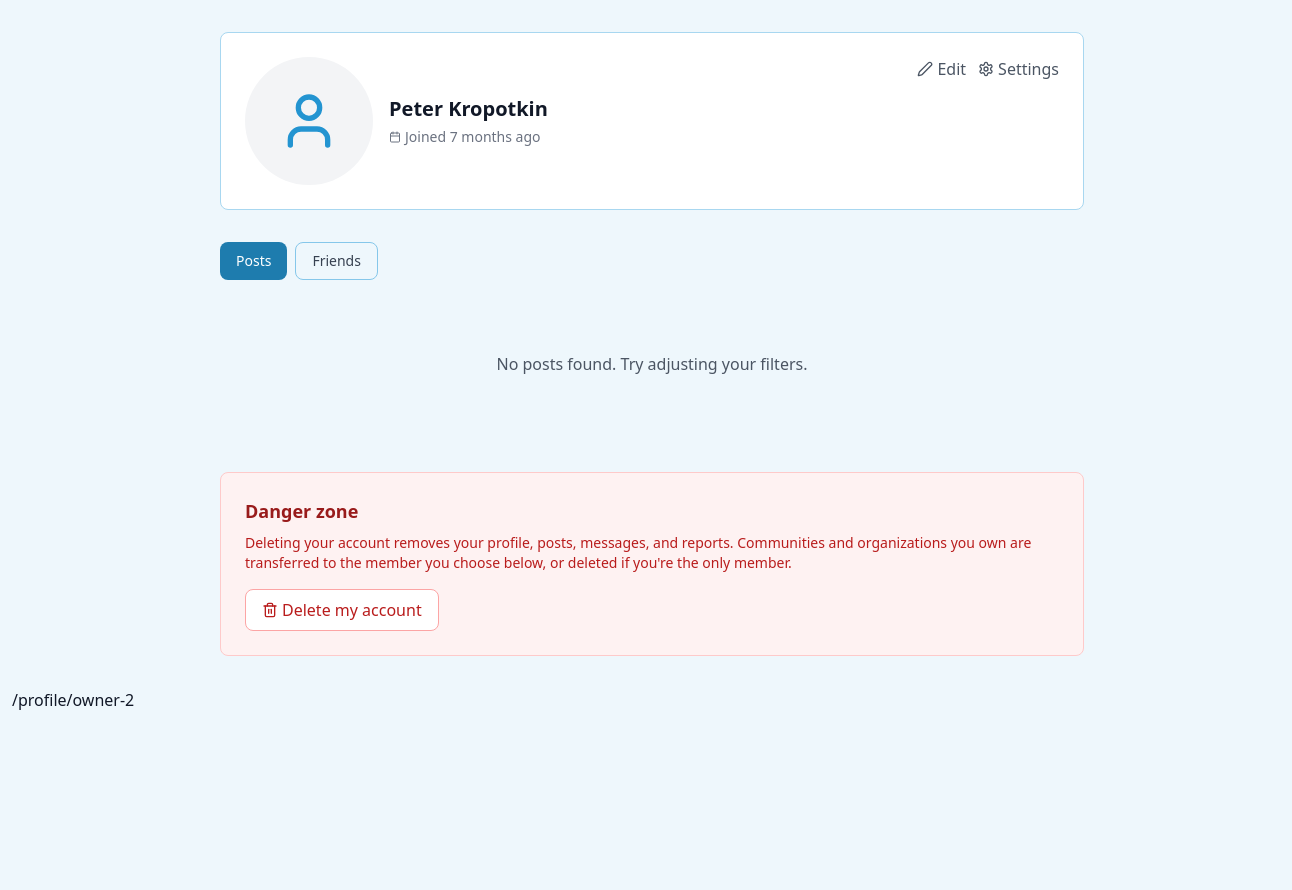
Test: ProfilePage delete account › shows an heir-picker per owned community/org when entering the confirm step
The width and height of the screenshot is (1292, 890).
Click the button "Delete my account": (342, 610) [245,589,439,631]
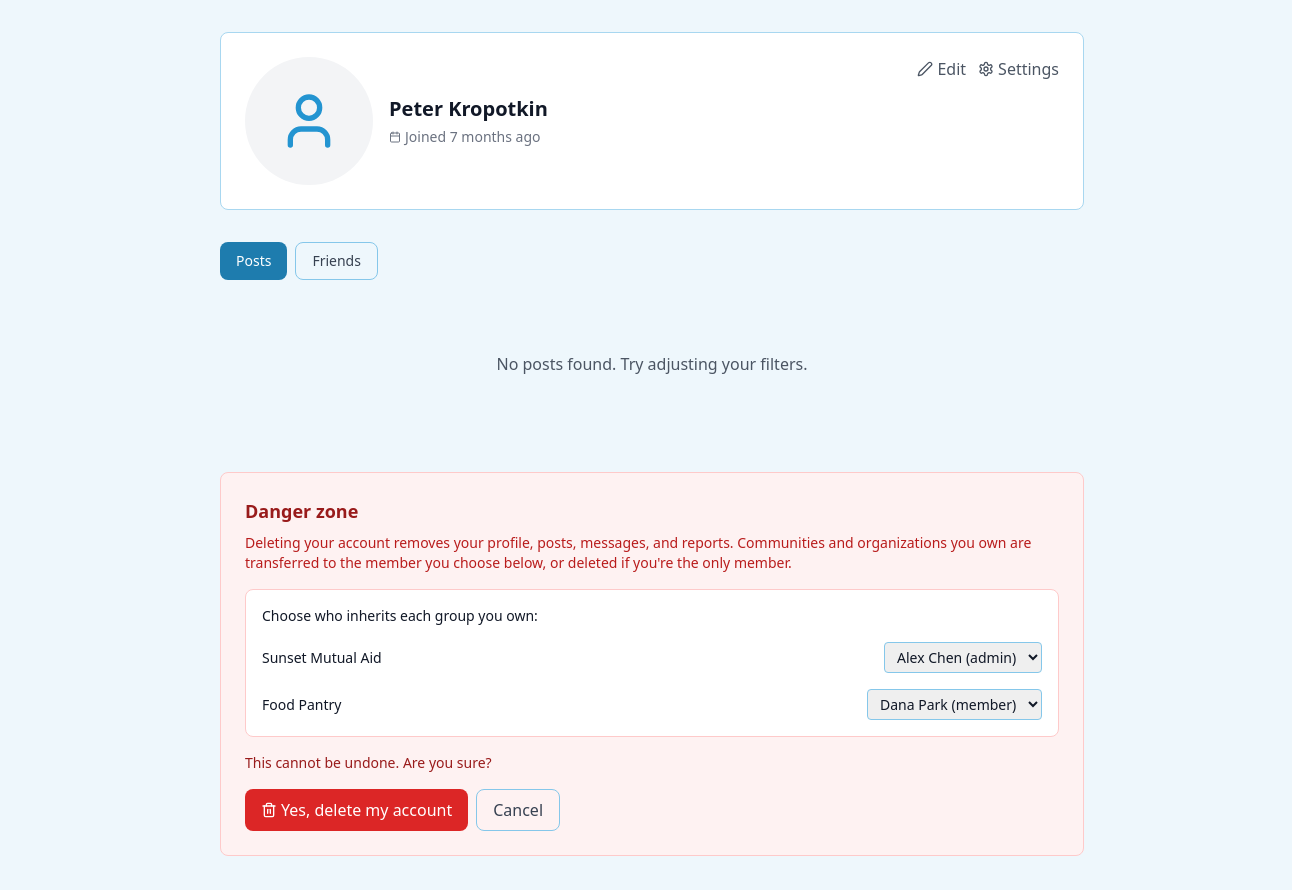
Result: the text "Choose who inherits each group you own:" is shown at [262,606,538,625]
Result: the dropdown labelled "Sunset Mutual Aid" is shown at [884,642,1042,673]
Result: the dropdown labelled "Food Pantry" is shown at [867,689,1042,720]
